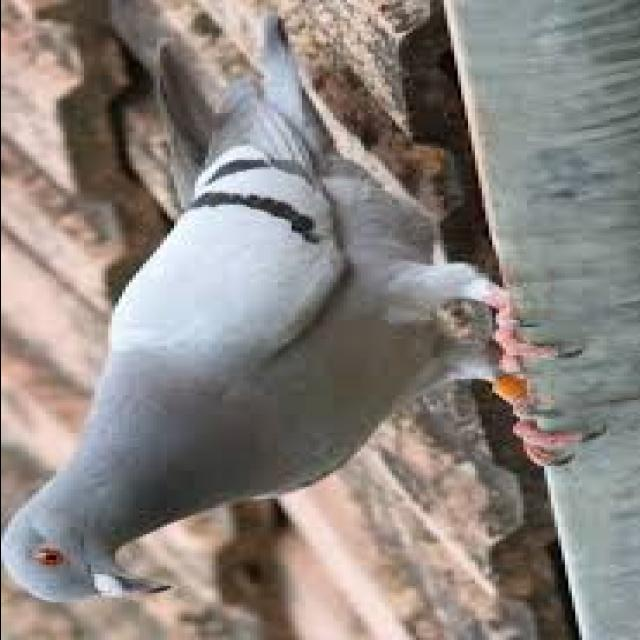pigeon: (0, 45, 542, 606)
